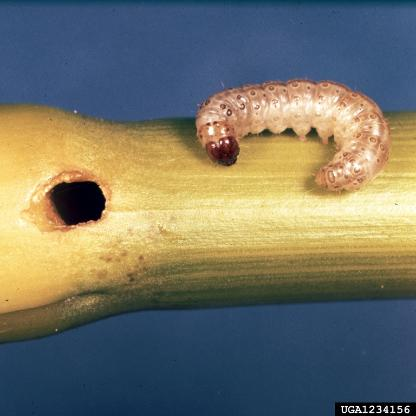Asian Corn Borer Larvae: (188, 70, 400, 202)
